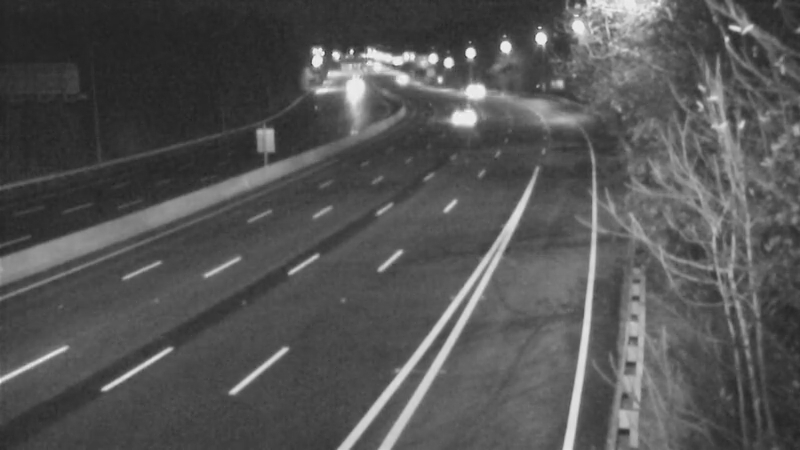vehicle: (374, 52, 424, 102), (447, 64, 497, 114), (437, 94, 487, 144), (329, 65, 379, 115)
